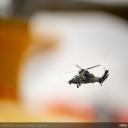helicopter: (65, 65, 111, 88)
